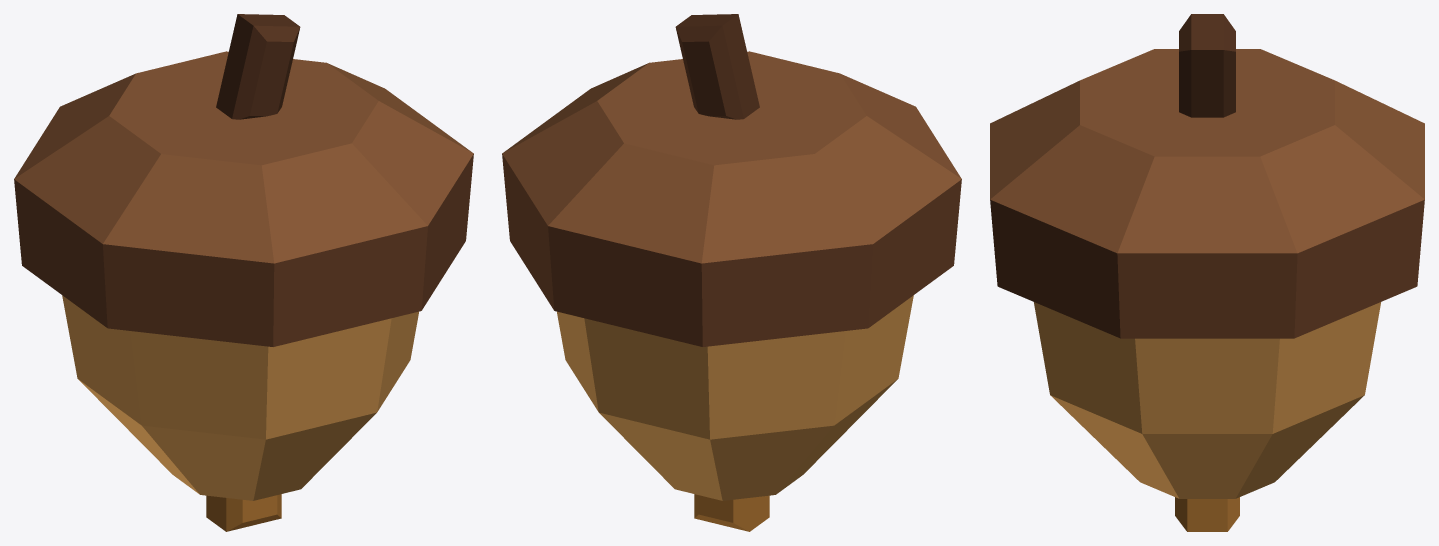
The model's file is fx_pet_acorn_pellet.glb.
3 views of the same model, side by side, from view 1: azimuth 30°, elevation 25°; view 2: azimuth 150°, elevation 25°; view 3: azimuth 270°, elevation 25° (orthographic).
Parts seen in each view (by area): view 1: AcornPellet_CapTop, AcornPellet_Cap, AcornPellet_NutUpper, AcornPellet_NutLower, AcornPellet_Stem, AcornPellet_NutTip; view 2: AcornPellet_CapTop, AcornPellet_Cap, AcornPellet_NutUpper, AcornPellet_NutLower, AcornPellet_Stem, AcornPellet_NutTip; view 3: AcornPellet_CapTop, AcornPellet_Cap, AcornPellet_NutUpper, AcornPellet_NutLower, AcornPellet_Stem, AcornPellet_NutTip.
Part boxes in pixels (x1,y1,x2,y2): AcornPellet_CapTop: [14, 51, 473, 263]; AcornPellet_Cap: [14, 154, 473, 346]; AcornPellet_NutUpper: [62, 295, 418, 439]; AcornPellet_NutLower: [78, 379, 376, 500]; AcornPellet_Stem: [216, 14, 300, 119]; AcornPellet_NutTip: [206, 494, 281, 531]; AcornPellet_CapTop: [502, 51, 961, 263]; AcornPellet_Cap: [502, 154, 961, 346]; AcornPellet_NutUpper: [557, 295, 913, 439]; AcornPellet_NutLower: [599, 379, 897, 500]; AcornPellet_Stem: [675, 14, 759, 119]; AcornPellet_NutTip: [694, 494, 769, 531]; AcornPellet_CapTop: [990, 49, 1424, 253]; AcornPellet_Cap: [990, 199, 1424, 338]; AcornPellet_NutUpper: [1034, 302, 1380, 433]; AcornPellet_NutLower: [1050, 395, 1364, 498]; AcornPellet_Stem: [1179, 14, 1235, 117]; AcornPellet_NutTip: [1175, 497, 1239, 531].
Size of the model in its own units: 0.5359 by 0.6866 by 0.5359.
